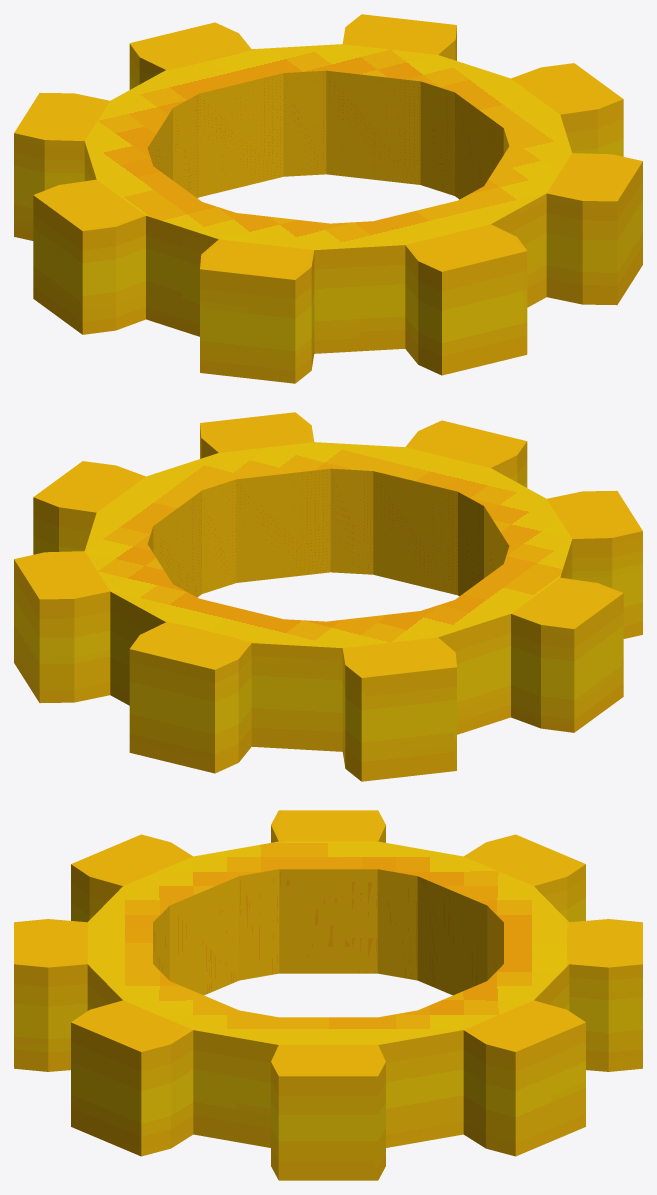
The model's file is Gear.glb.
The picture shows the model from 3 angles, top to bottom: view 1: azimuth 30°, elevation 25°; view 2: azimuth 150°, elevation 25°; view 3: azimuth 270°, elevation 25°; orthographic projection.
Visible parts, largest first — view 1: gear.004; view 2: gear.004; view 3: gear.004.
Boxes of the visible parts, bbox=[...] form: gear.004: bbox=[14, 14, 642, 383]; gear.004: bbox=[14, 412, 642, 781]; gear.004: bbox=[14, 810, 642, 1180].
Size of the model in its own units: 1.05 by 0.193 by 1.05.
1 material, 1 textured.
